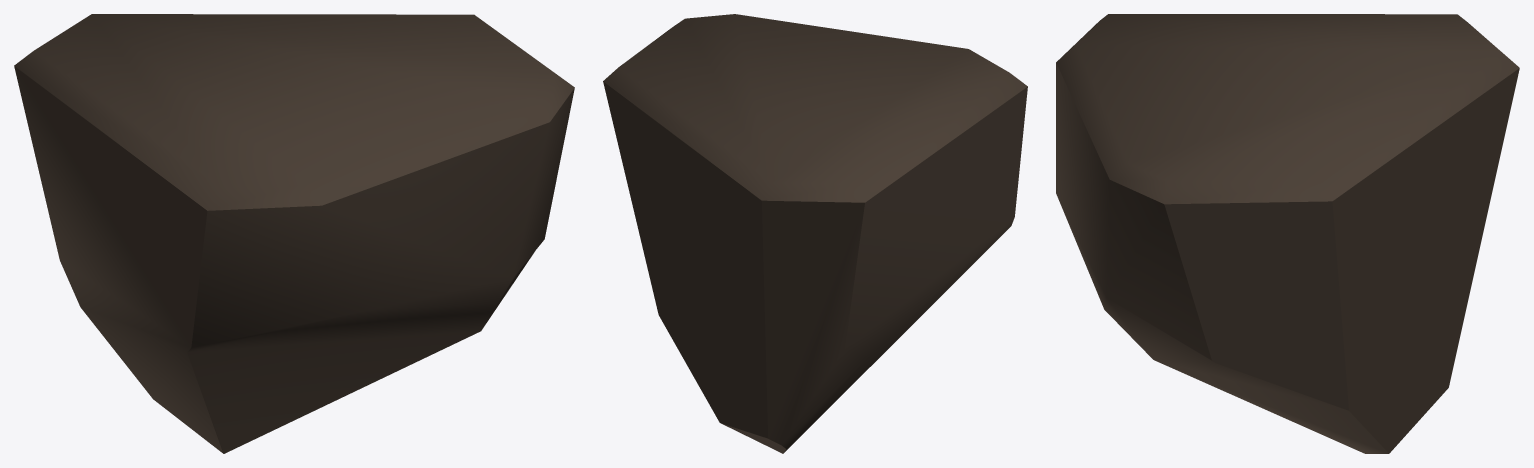
The model's file is Platformes_Caillou.fbx.
3 renders of one model, left to right at view 1: azimuth 30°, elevation 25°; view 2: azimuth 150°, elevation 25°; view 3: azimuth 270°, elevation 25°, orthographic. The views are drawn at different scales.
Visible parts, largest first — view 1: Platform-2; view 2: Platform-2; view 3: Platform-2.
Part boxes in pixels (box(x1,y1,x2,y2)): Platform-2: box(14, 14, 574, 453); Platform-2: box(603, 14, 1027, 453); Platform-2: box(1056, 14, 1519, 453).
Size of the model in its own units: 299 by 285 by 319.
